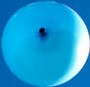Balloon: (1, 1, 89, 86)
